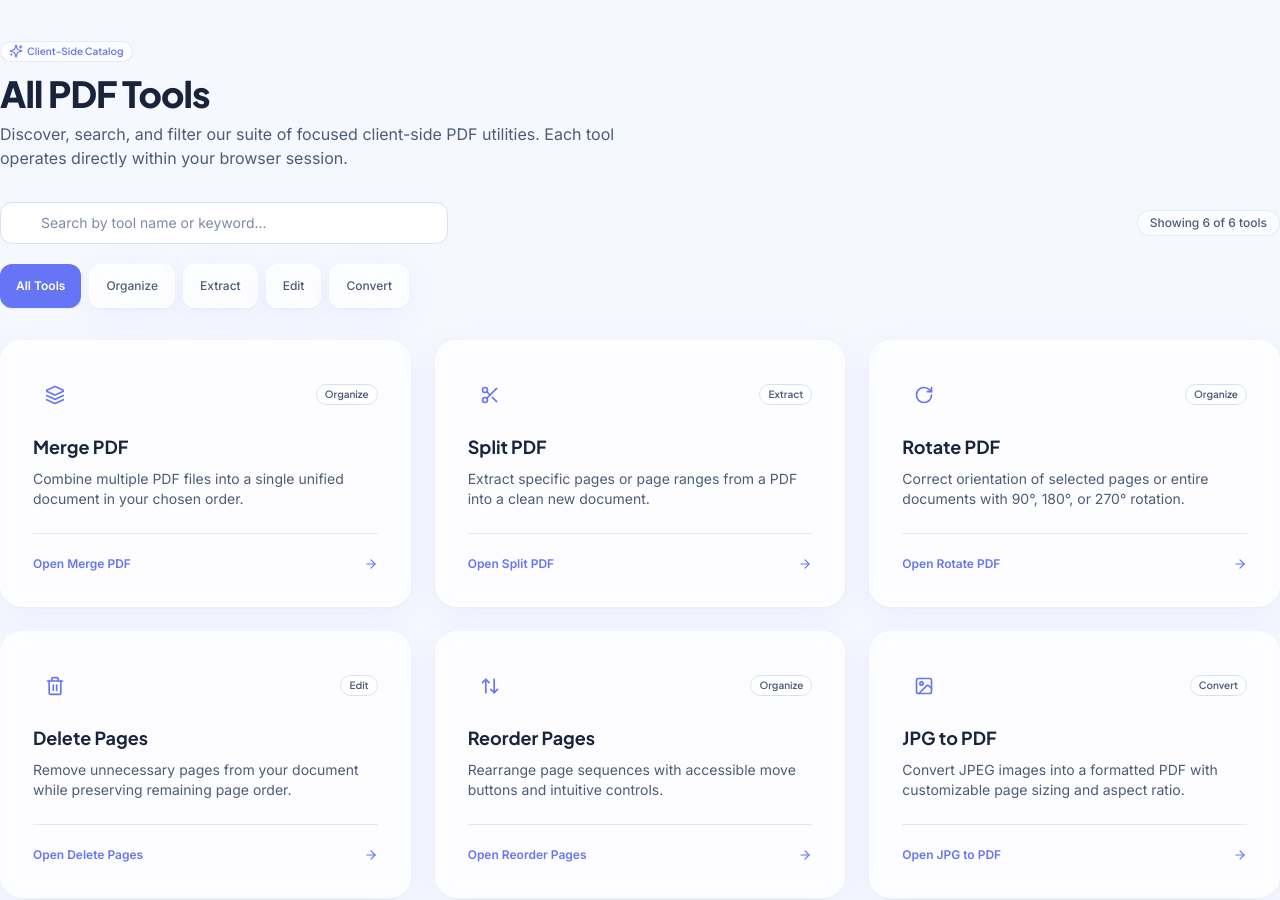
it: AllTools Page Component (WEB-02) › filters tools by search term in tool name (case-insensitive with whitespace trimming)
Note: Type with whitespace and mixed case
Type "   mErGe   " into the field with placeholder "Search by tool name or keyword..." at (224, 222), box [0, 202, 448, 244]
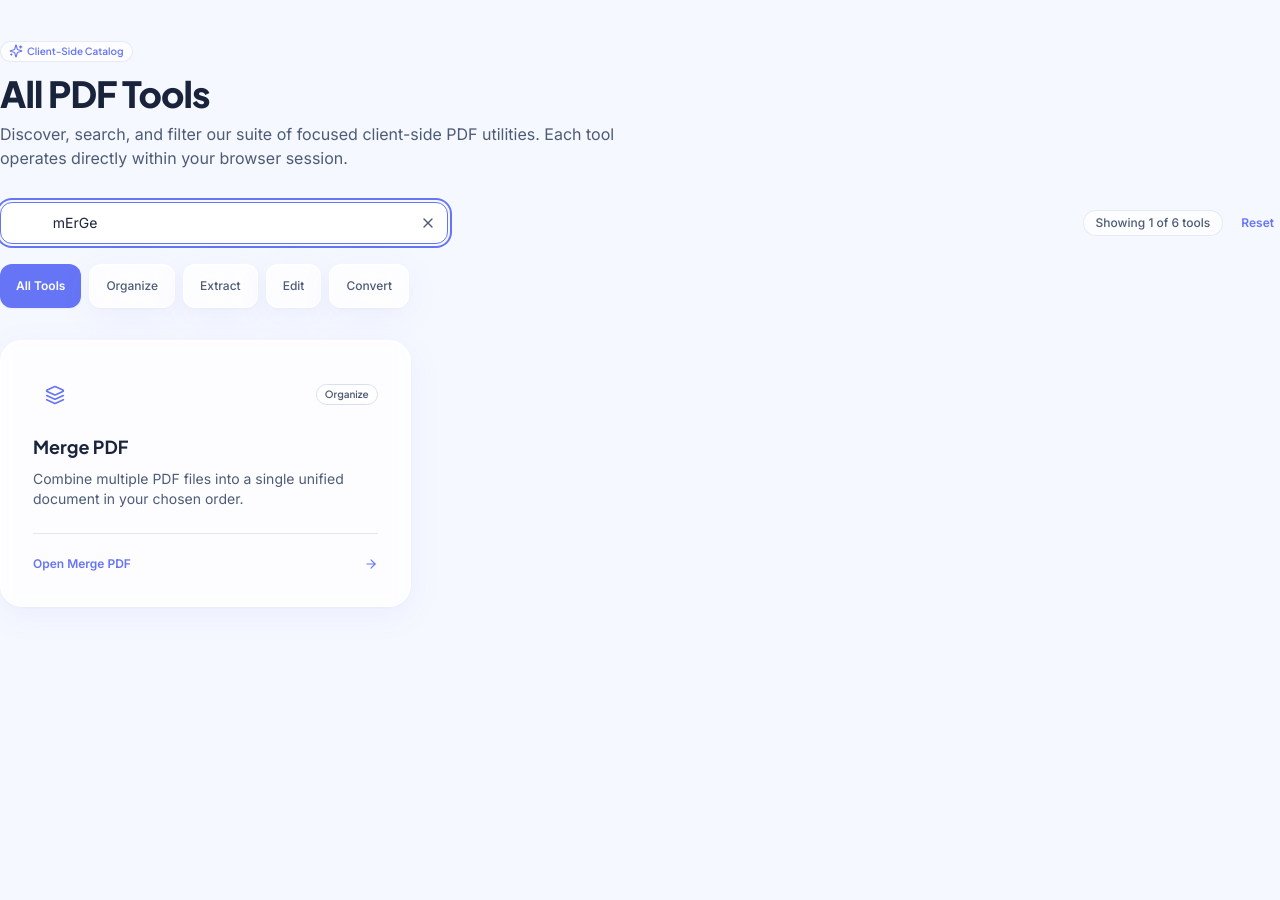
Expected: the text "Showing 1 of 6 tools" is shown, [1082, 210, 1223, 236]
Expected: the heading "Split PDF" is gone
Expected: the heading "Rotate PDF" is gone
